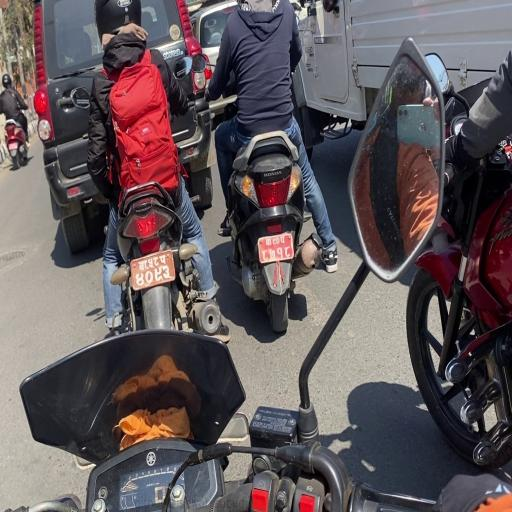license_plate: (129, 248, 177, 294), (257, 231, 295, 265), (8, 141, 19, 152)
